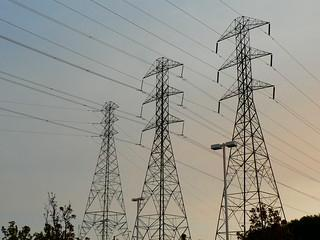power_tower: (209, 14, 287, 240), (133, 50, 197, 236), (79, 95, 131, 240)
